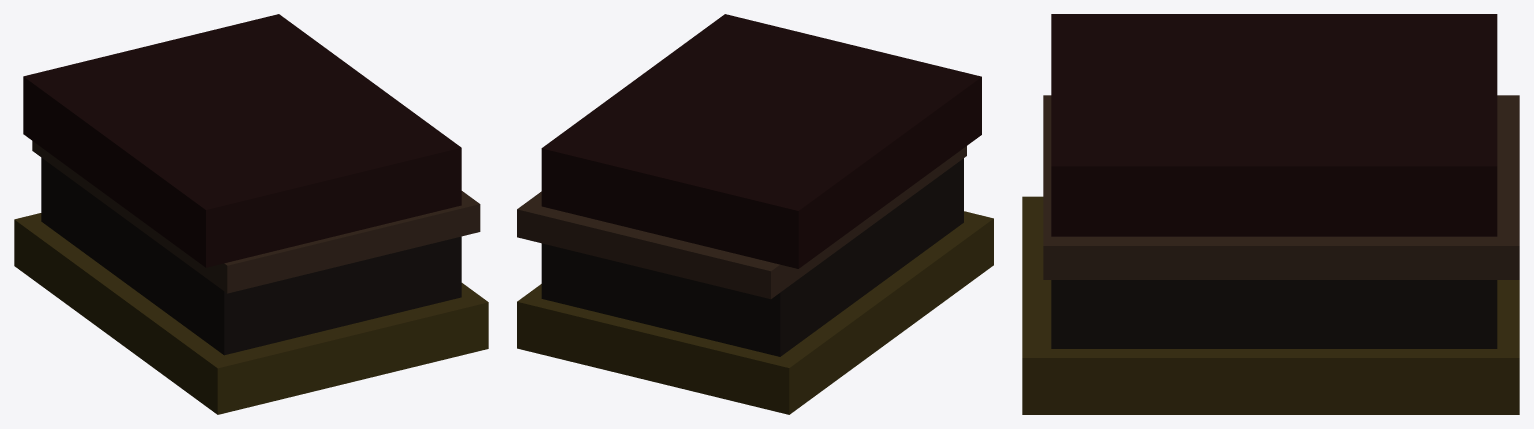
The model's file is book_pile_short.obj.
The picture shows the model from 3 angles, left to right: view 1: azimuth 30°, elevation 25°; view 2: azimuth 150°, elevation 25°; view 3: azimuth 270°, elevation 25°; orthographic projection. The views are drawn at different scales.
Visible parts, largest first — view 1: pCube100; view 2: pCube100; view 3: pCube100.
Part boxes in pixels (x1,y1,x2,y2): pCube100: (14, 14, 488, 414); pCube100: (517, 14, 993, 414); pCube100: (1022, 14, 1519, 414).
Bounding box in the file's own units: 0.1889 × 0.1307 × 0.2458.
